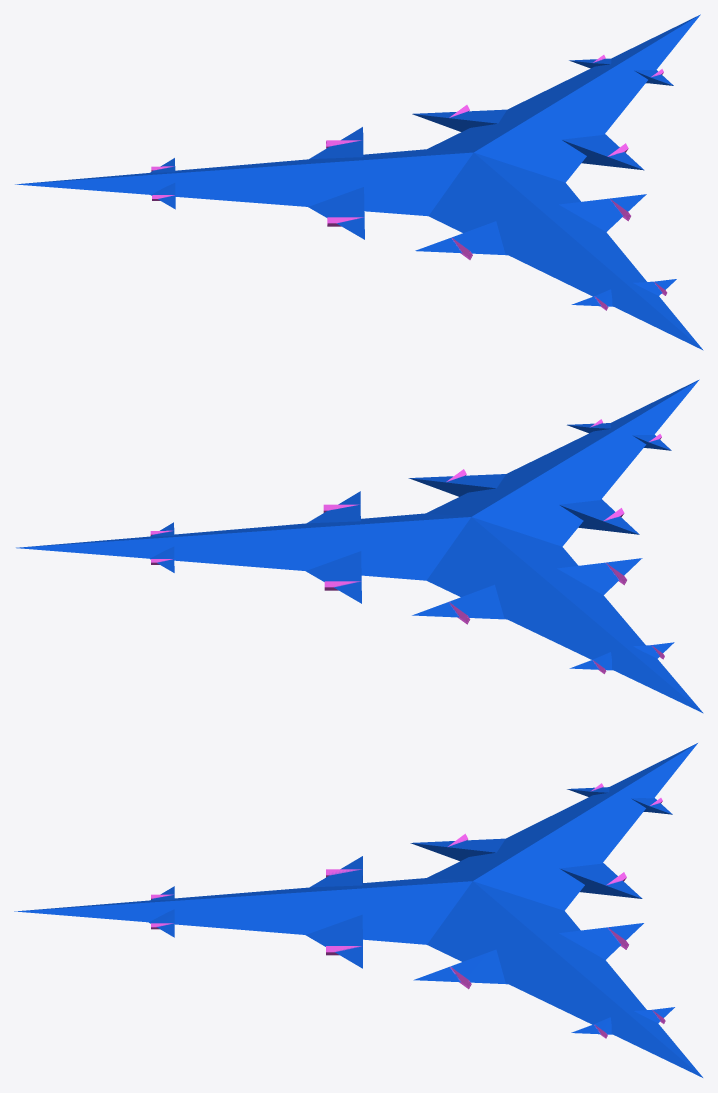
Rendered from boss1.fbx.
3 views of the same model, one above another, from view 1: azimuth 30°, elevation 25°; view 2: azimuth 150°, elevation 25°; view 3: azimuth 270°, elevation 25° (orthographic).
Visible parts, largest first — view 1: boss1, arm9, arm6, arm10, arm1, arm2, arm5; view 2: boss1, arm5, arm2, arm6, arm9, arm10, arm1; view 3: boss1, arm1, arm10, arm5, arm2, arm6, arm9.
Boxes of the visible parts, bbox=[...] form: boss1: bbox=[15, 14, 703, 350]; arm9: bbox=[415, 221, 507, 259]; arm6: bbox=[308, 187, 364, 239]; arm10: bbox=[559, 194, 646, 231]; arm1: bbox=[561, 134, 644, 170]; arm2: bbox=[412, 105, 506, 131]; arm5: bbox=[309, 127, 363, 159]; boss1: bbox=[16, 379, 703, 713]; arm5: bbox=[412, 584, 506, 624]; arm2: bbox=[305, 551, 361, 603]; arm6: bbox=[557, 558, 642, 595]; arm9: bbox=[559, 499, 639, 534]; arm10: bbox=[408, 469, 505, 496]; arm1: bbox=[307, 491, 360, 523]; boss1: bbox=[14, 743, 702, 1077]; arm1: bbox=[413, 949, 507, 989]; arm10: bbox=[305, 914, 362, 968]; arm5: bbox=[560, 863, 642, 898]; arm2: bbox=[559, 923, 643, 959]; arm6: bbox=[410, 833, 505, 861]; arm9: bbox=[310, 856, 362, 887].
Size of the model in its own units: 29.71 by 2.48 by 25.78.
